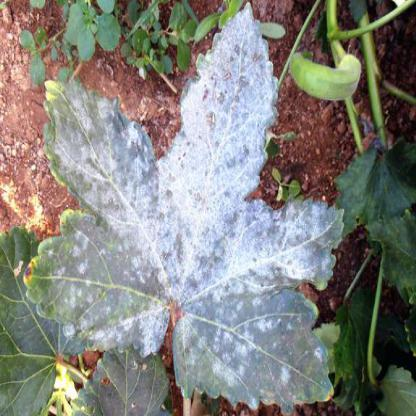Squash Powdery mildew leaf: (23, 9, 352, 400)
